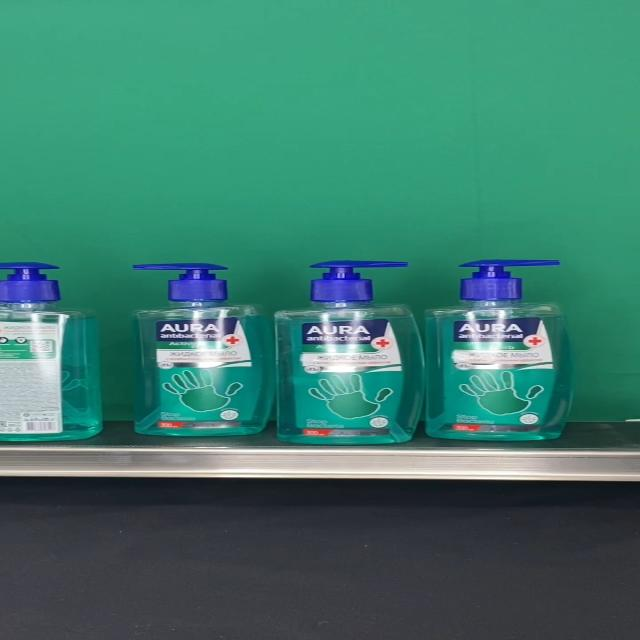Bottle: (273, 261, 426, 444), (424, 258, 574, 441), (132, 263, 276, 436), (0, 261, 104, 440)
Cap: (459, 259, 560, 303), (308, 261, 410, 303), (134, 263, 228, 301), (0, 261, 62, 301)
